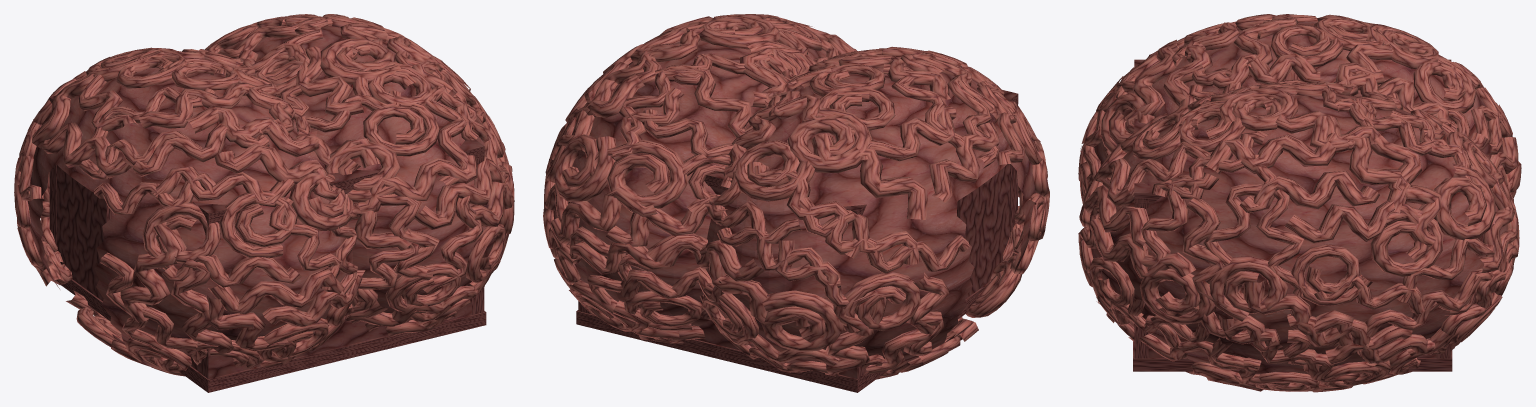
The model's file is brain-room.glb.
The picture shows the model from 3 angles, left to right: view 1: azimuth 30°, elevation 25°; view 2: azimuth 150°, elevation 25°; view 3: azimuth 270°, elevation 25°; orthographic projection.
Visible parts, largest first — view 1: Organic cortical shell, Living cortical tissue; view 2: Organic cortical shell, Living cortical tissue; view 3: Organic cortical shell, Living cortical tissue.
Part boxes in pixels (x1,y1,x2,y2): Organic cortical shell: (14,14,514,376); Living cortical tissue: (49,95,486,392); Organic cortical shell: (543,14,1049,379); Living cortical tissue: (576,90,1018,392); Organic cortical shell: (1078,14,1521,392); Living cortical tissue: (1133,59,1452,371).
Bounding box in the file's own units: 18.98 × 12.31 × 17.61.
Materials: 13 (5 with a texture image).
